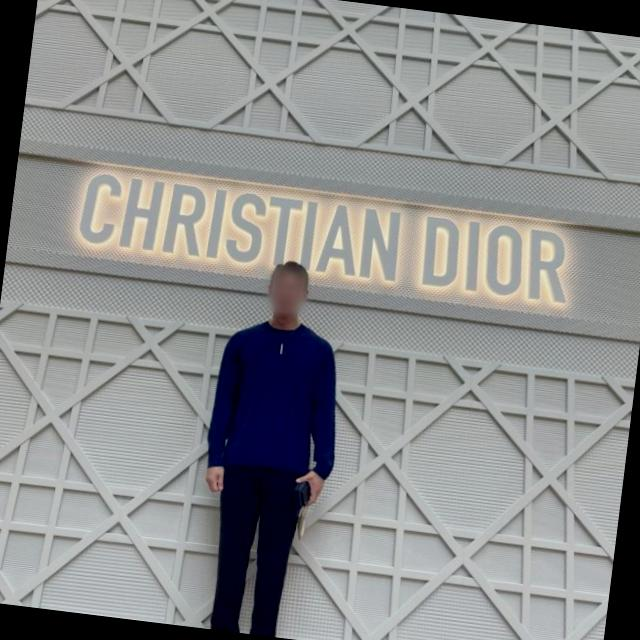denimpants: (204, 468, 306, 638)
longsleeve: (203, 310, 349, 480)
